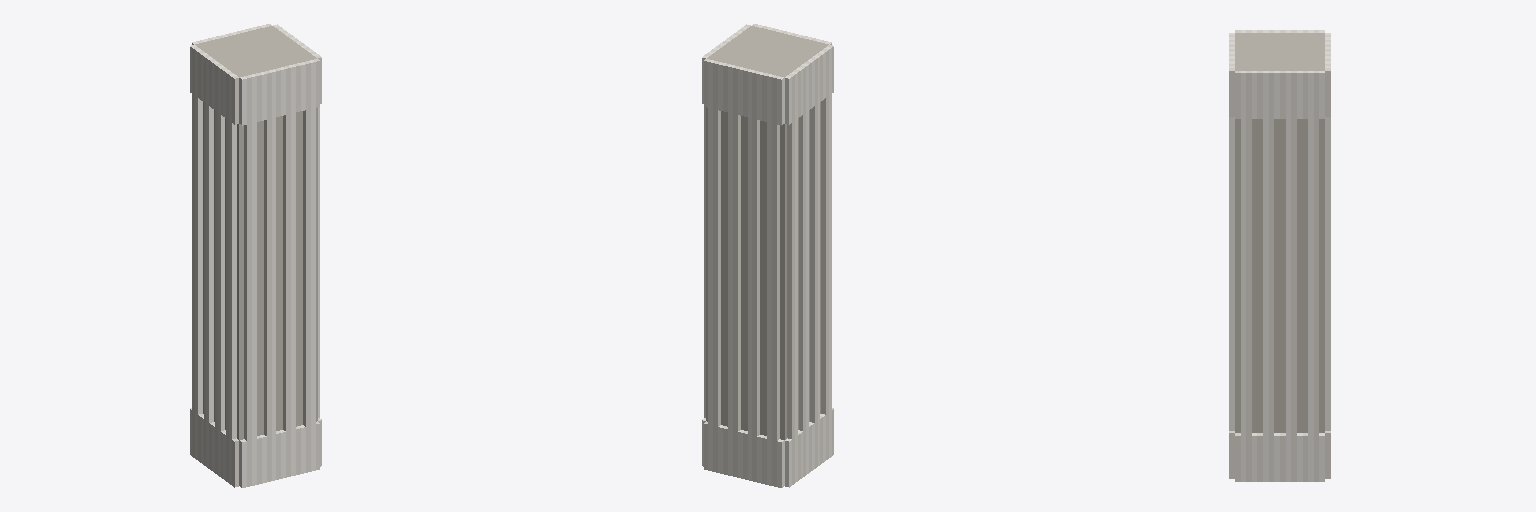
The picture shows the model from 3 angles: view 1: azimuth 30°, elevation 25°; view 2: azimuth 150°, elevation 25°; view 3: azimuth 270°, elevation 25°; orthographic projection.
Parts seen in each view (by area): view 1: object 1; view 2: object 1; view 3: object 1.
Part boxes in pixels (left/top/right/bottom): object 1: left=190, top=24, right=321, bottom=487; object 1: left=702, top=24, right=833, bottom=487; object 1: left=1229, top=30, right=1330, bottom=481.
Size of the model in its own units: 1.8 by 8 by 1.8.
Materials: 1 (1 with a texture image).